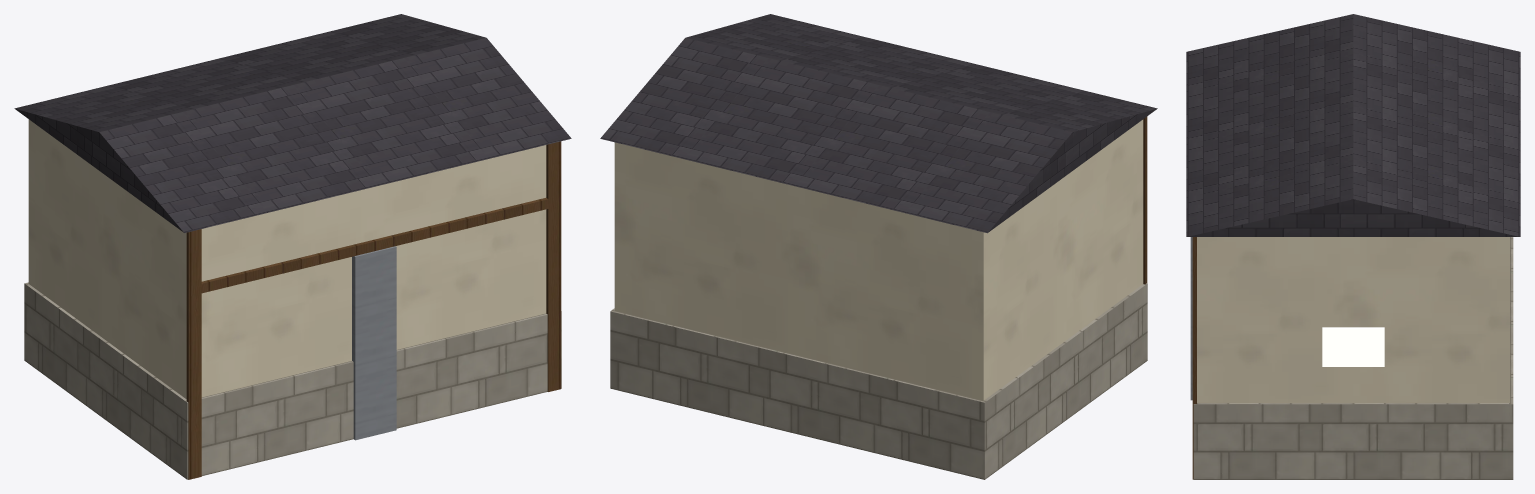
The model's file is wing.lending.glb.
The picture shows the model from 3 angles, left to right: view 1: azimuth 30°, elevation 25°; view 2: azimuth 150°, elevation 25°; view 3: azimuth 270°, elevation 25°; orthographic projection. The views are drawn at different scales.
Parts seen in each view (by area): view 1: castle.wing.lending; view 2: castle.wing.lending; view 3: castle.wing.lending.
Boxes of the visible parts, box(x1,y1,x2,y2) form: castle.wing.lending: box(14, 14, 571, 479); castle.wing.lending: box(600, 14, 1157, 479); castle.wing.lending: box(1186, 14, 1520, 479).
Size of the model in its own units: 4.2 by 3 by 3.2.
Materials: 6 (5 with a texture image).
